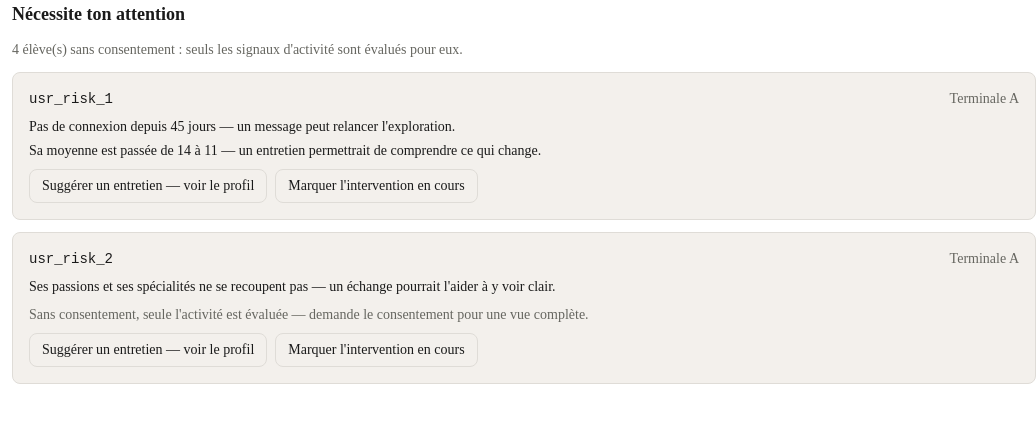
Scenario: AtRiskPanel › reverts the optimistic mark and alerts on failure
Click the button "Marquer l'intervention en cours" below "usr_risk_1" at (376, 186), box [275,169,478,203]
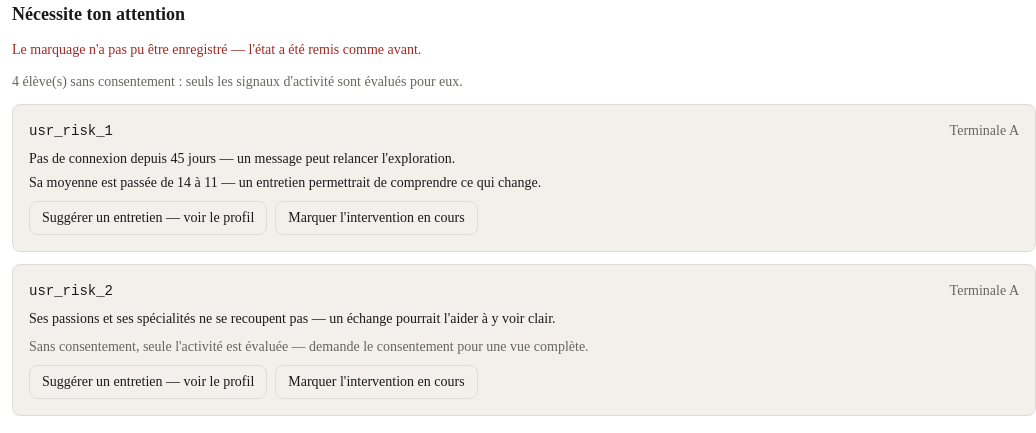
Result: the message shows "n'a pas pu être enregistré" at [12,42,421,57]
